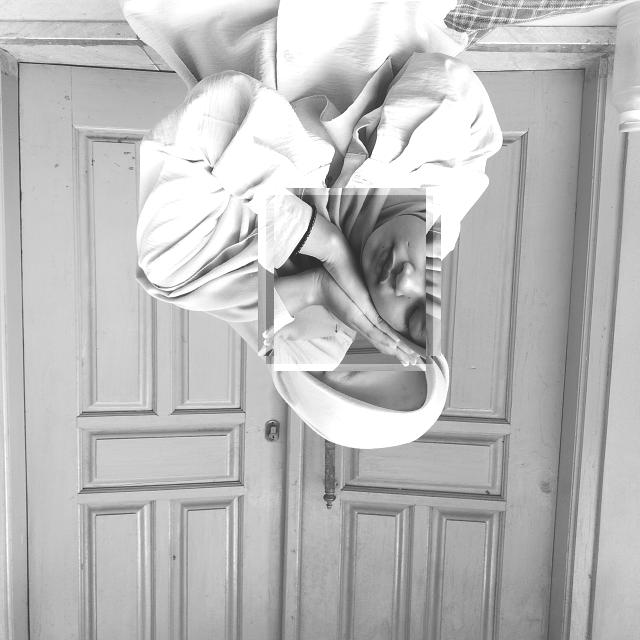tidur: (266, 195, 433, 364)
